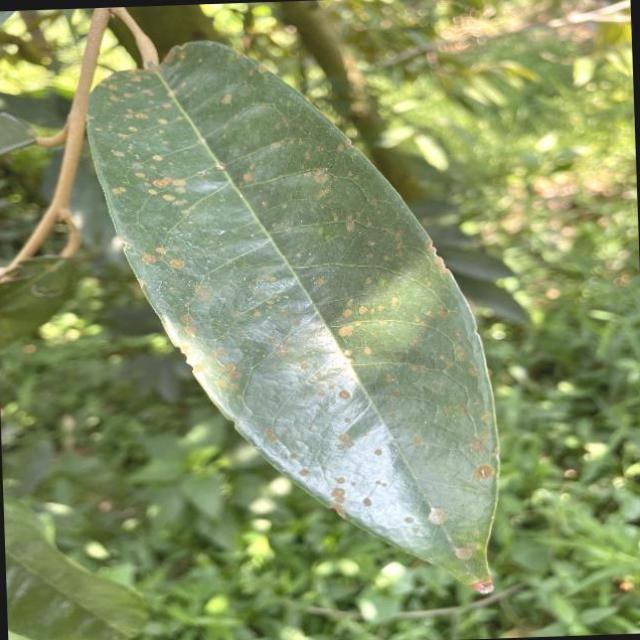Algal Leaf Spot: (72, 23, 520, 627)
